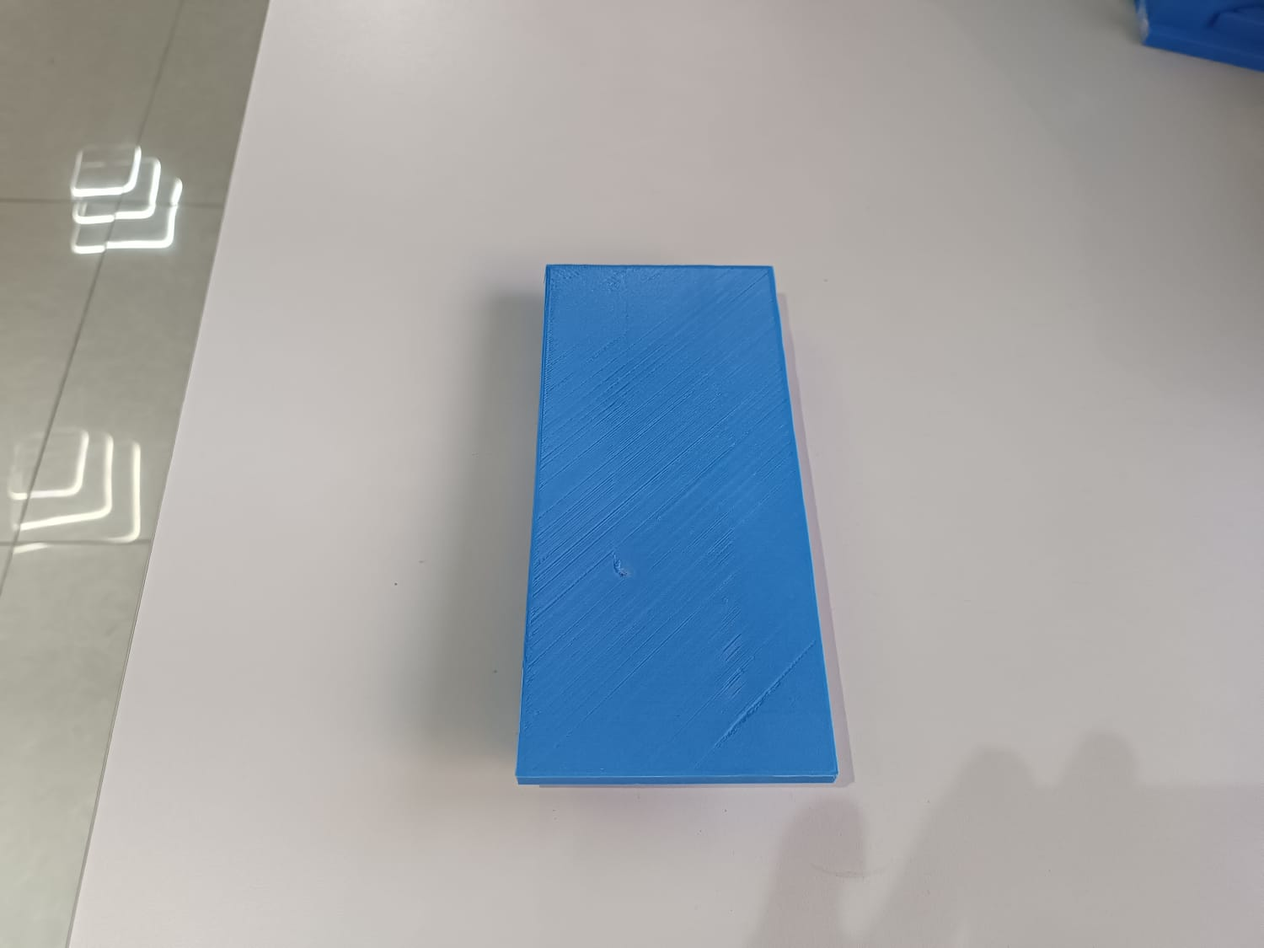Rectangular: (504, 253, 849, 797)
